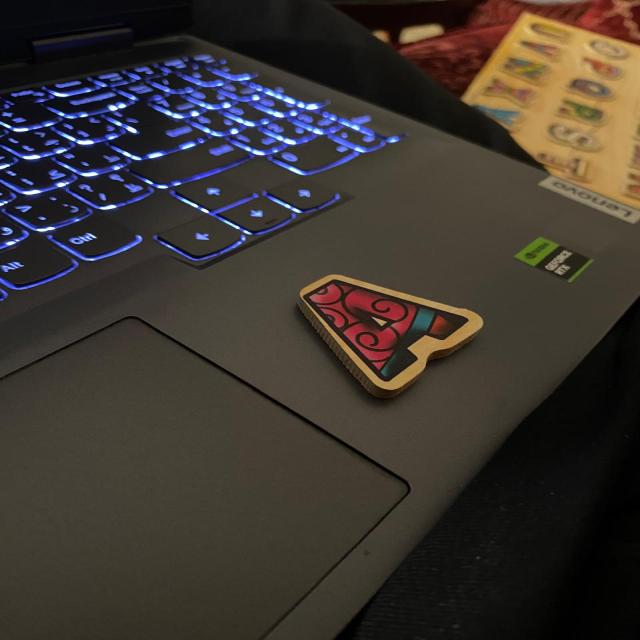A: (298, 276, 482, 397)
